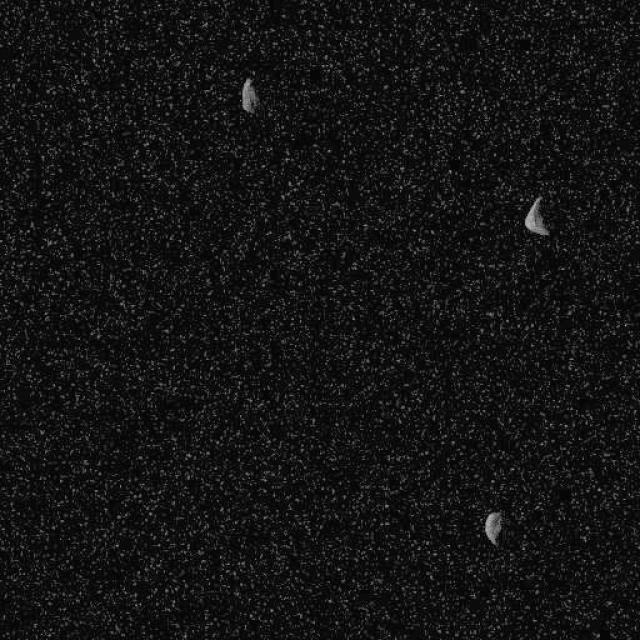D2: (524, 195, 550, 236), (240, 75, 259, 115), (483, 510, 502, 546)
